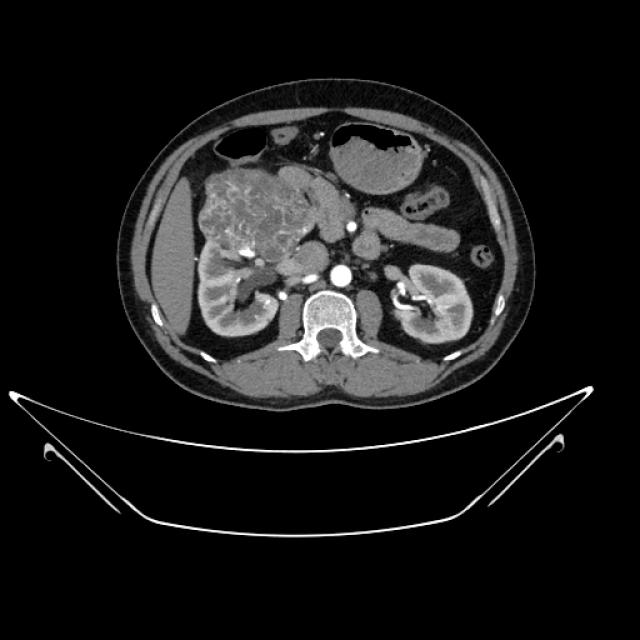Tumor: (180, 178, 358, 277)
